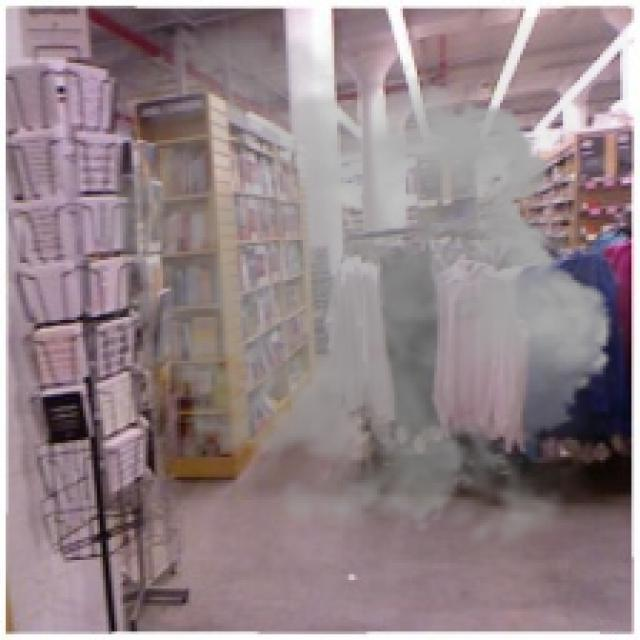Smoke: (62, 17, 628, 563)
